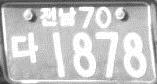0: (94, 5, 112, 29)
1: (50, 30, 68, 78)
7: (93, 30, 119, 79), (77, 5, 95, 30)
8: (121, 31, 148, 78), (71, 31, 96, 78)
다: (10, 30, 38, 65)
전남_O: (38, 6, 77, 28)
